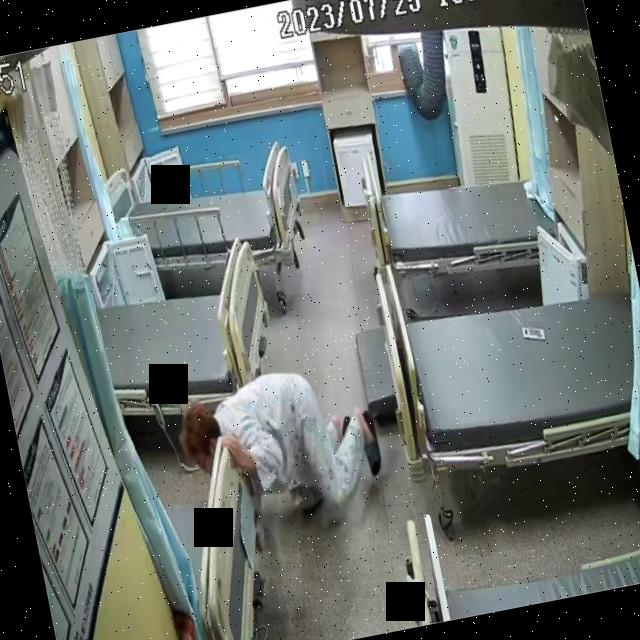bed: (397, 268, 640, 483), (87, 234, 290, 441), (103, 137, 308, 291), (361, 138, 562, 292)
fall: (176, 353, 390, 534)
patient: (177, 353, 390, 535)
